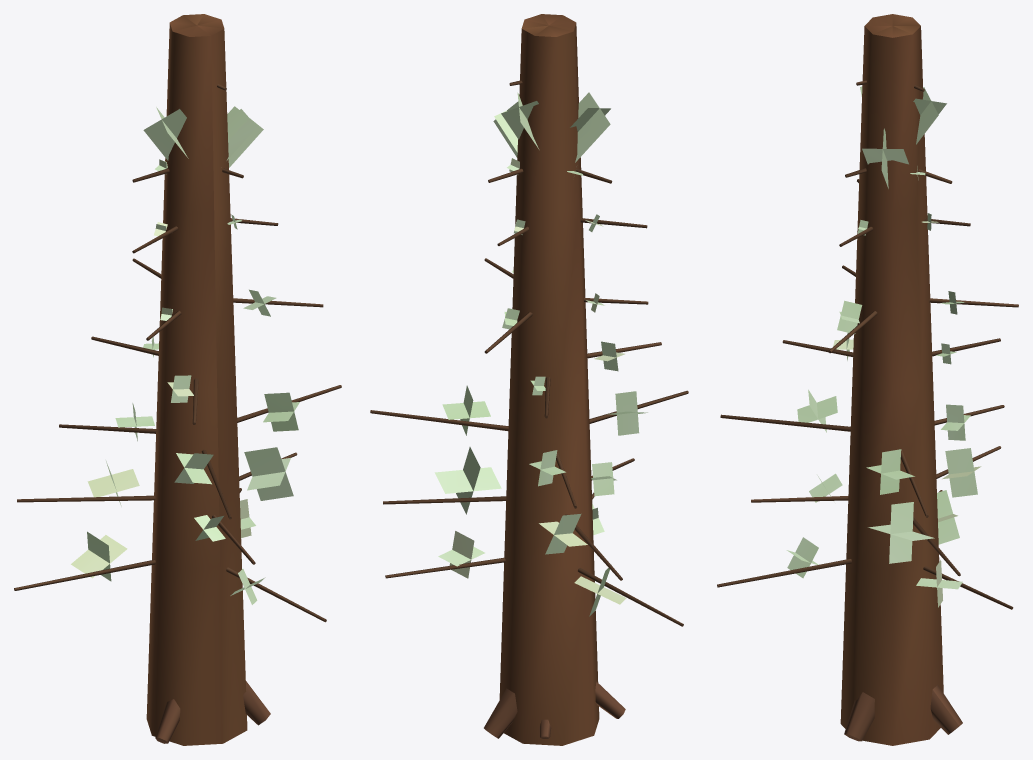
Rendered from mature-lod2.glb.
The picture shows the model from 3 angles, left to right: view 1: azimuth 30°, elevation 25°; view 2: azimuth 150°, elevation 25°; view 3: azimuth 270°, elevation 25°; orthographic projection.
Parts seen in each view (by area): view 1: pine-trunk-branches-buried-roots-ground-blend, pine-terminal-needle-sprigs; view 2: pine-trunk-branches-buried-roots-ground-blend, pine-terminal-needle-sprigs; view 3: pine-trunk-branches-buried-roots-ground-blend, pine-terminal-needle-sprigs.
Part boxes in pixels (x1=…): pine-trunk-branches-buried-roots-ground-blend: x1=14, y1=14, x2=341, y2=745; pine-terminal-needle-sprigs: x1=71, y1=106, x2=299, y2=604; pine-trunk-branches-buried-roots-ground-blend: x1=370, y1=14, x2=688, y2=745; pine-terminal-needle-sprigs: x1=434, y1=92, x2=647, y2=616; pine-trunk-branches-buried-roots-ground-blend: x1=717, y1=14, x2=1018, y2=745; pine-terminal-needle-sprigs: x1=786, y1=86, x2=981, y2=607.
Bounding box in the file's own units: 11.65 × 24.32 × 9.53.
